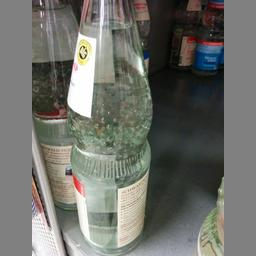water: (64, 0, 155, 249)
